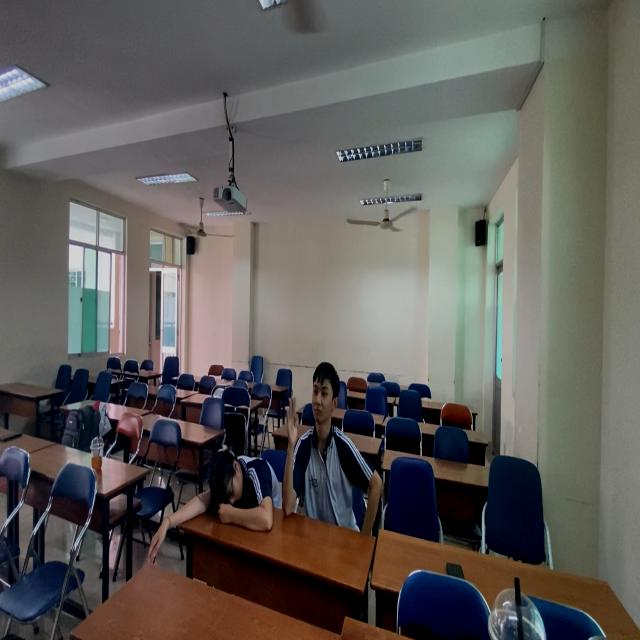raise_hand: (280, 359, 376, 521)
sleep: (174, 435, 280, 524)
